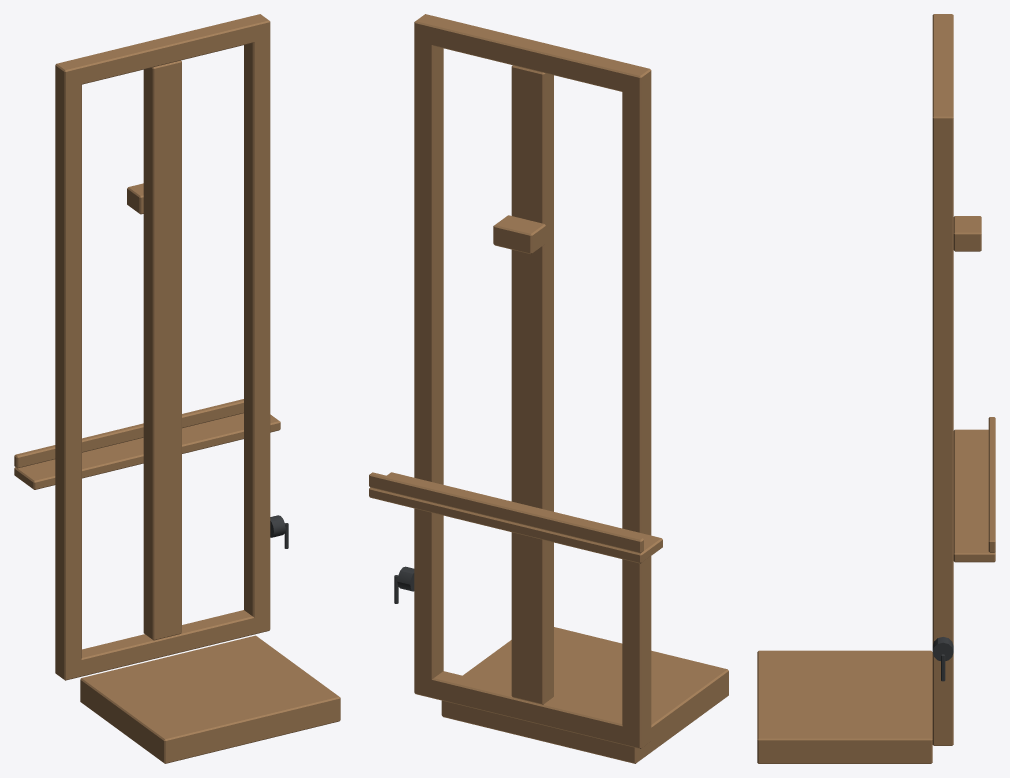
Rendered from prop_easel_studio.glb.
3 renders of one model, left to right at view 1: azimuth 30°, elevation 25°; view 2: azimuth 150°, elevation 25°; view 3: azimuth 270°, elevation 25°, orthographic. The views are drawn at different scales.
Visible parts, largest first — view 1: Easel; view 2: Easel; view 3: Easel.
Part boxes in pixels (bbox=[...]): Easel: bbox=[14, 14, 340, 763]; Easel: bbox=[369, 14, 728, 763]; Easel: bbox=[757, 14, 995, 763].
Size of what is drawn, in the model's own units: 0.8452 by 2.06 by 0.68.
